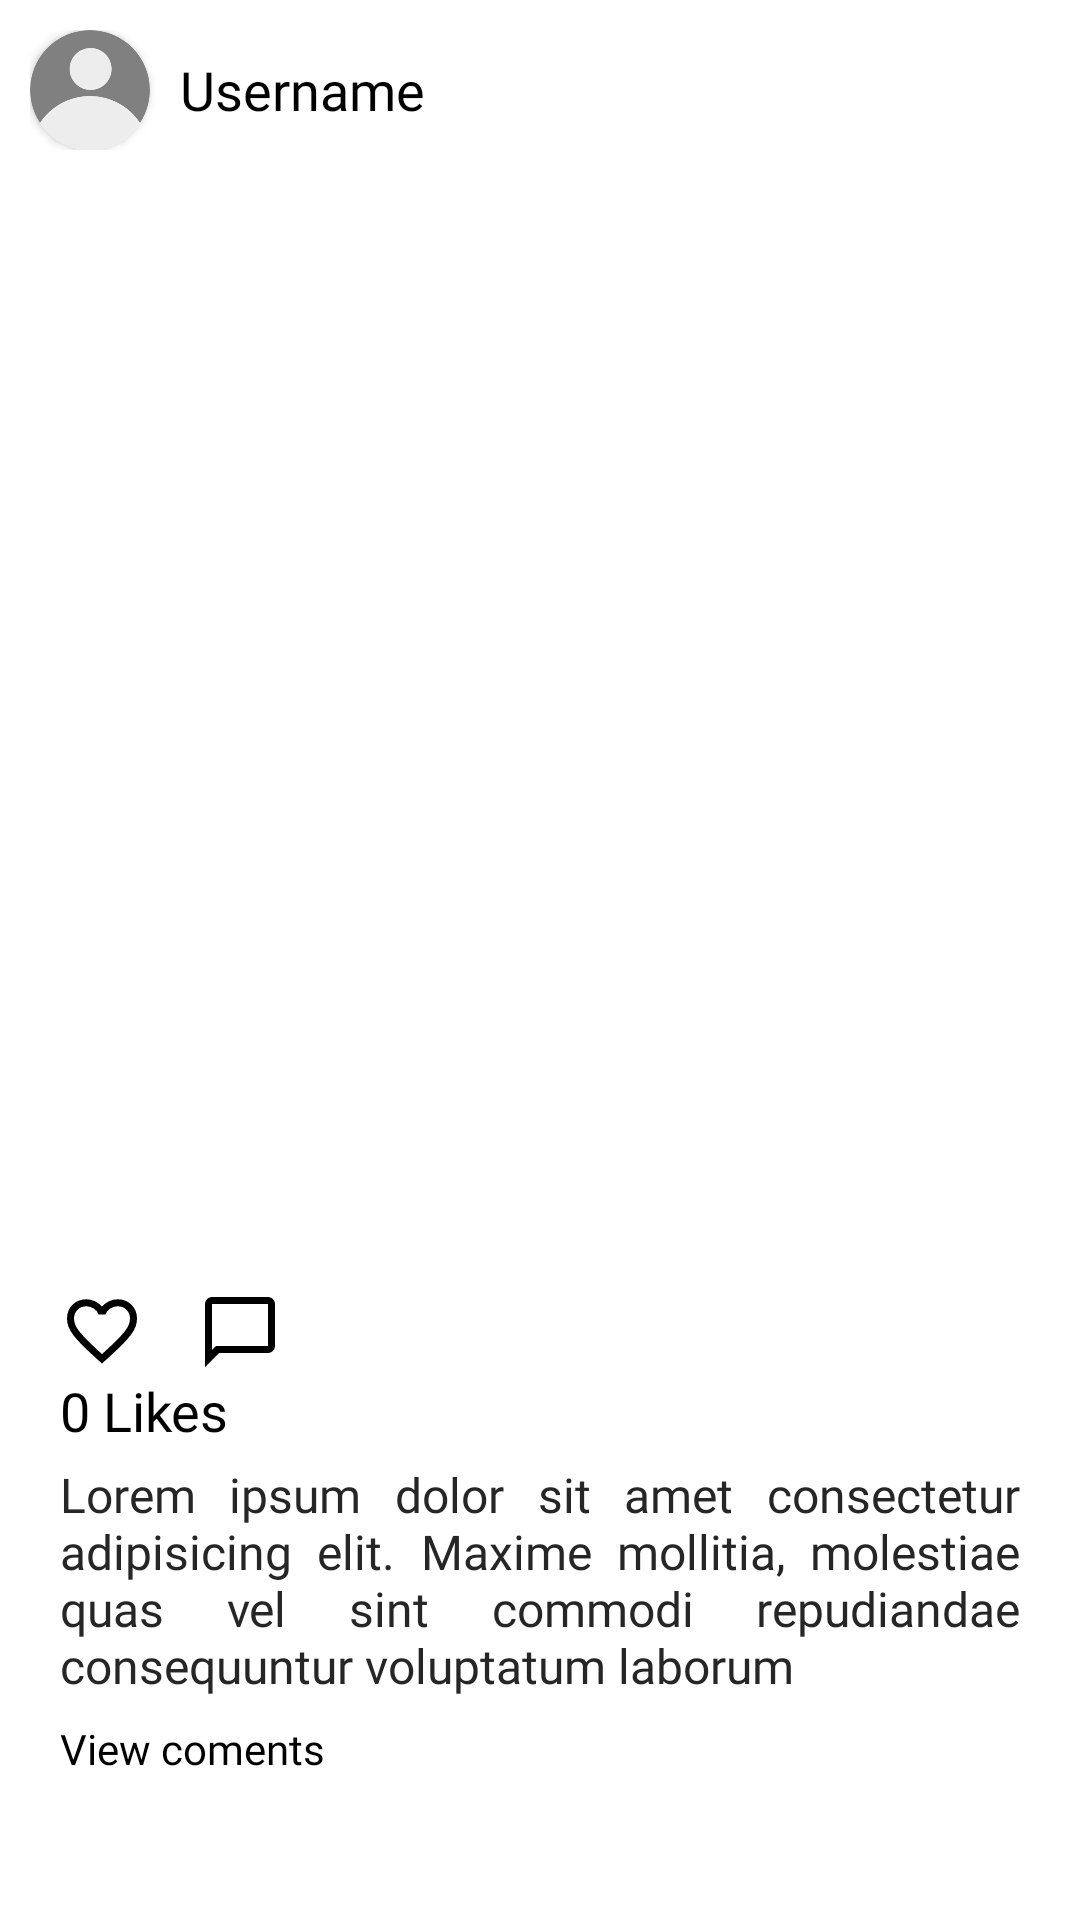

Icon click points for this 1080px×1920px phone screenshot, format (x,y):
chat bubble: (240,1332)
deafult profile picture: (90,90)
favorite: (102,1331)
